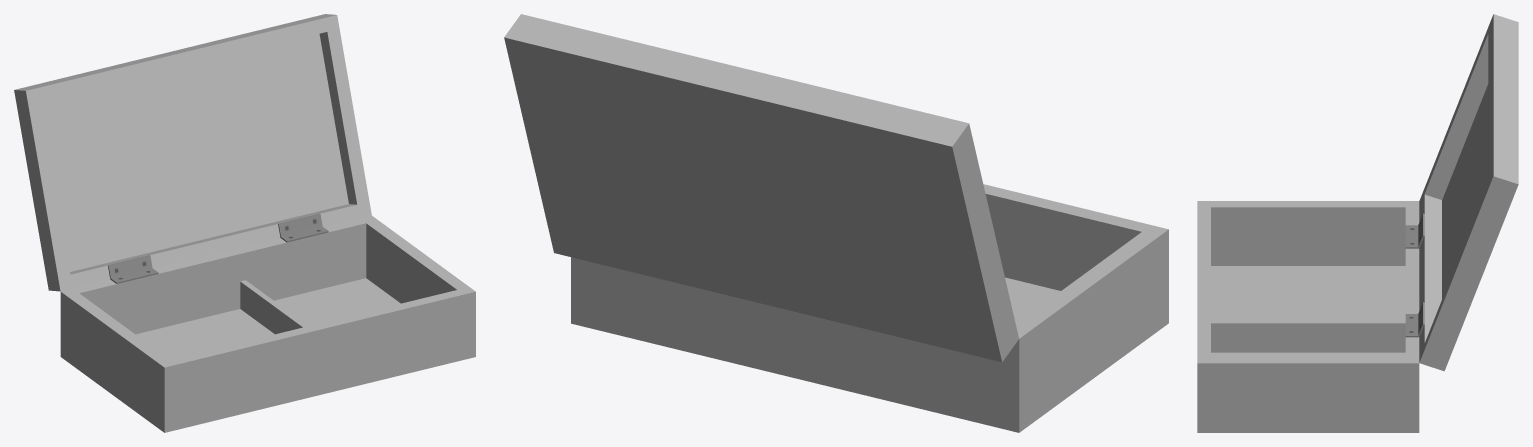
File: sewing-kit-1.fbx
3 views of the same model, side by side, from view 1: azimuth 30°, elevation 25°; view 2: azimuth 150°, elevation 25°; view 3: azimuth 270°, elevation 25° (orthographic). The views are drawn at different scales.
Visible parts, largest first — view 1: sewing-kit-1; view 2: sewing-kit-1; view 3: sewing-kit-1.
Boxes of the visible parts, <box> form: sewing-kit-1: <box>14,14,475,432</box>; sewing-kit-1: <box>504,14,1168,432</box>; sewing-kit-1: <box>1197,14,1518,432</box>.
Bounding box in the file's own units: 46.61 × 34.4 × 39.03.
Materials: 2 (2 with a texture image).
